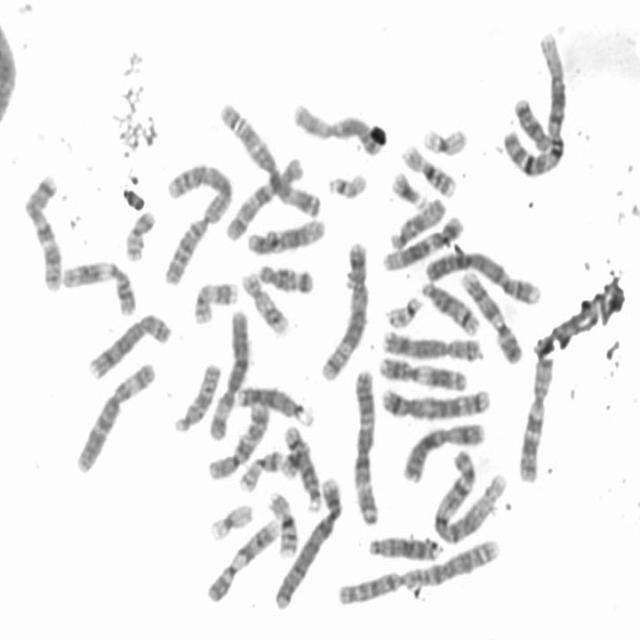A1: (498, 25, 572, 179), (430, 444, 510, 547)
A2: (333, 533, 505, 607), (157, 156, 235, 287)
A3: (218, 97, 325, 220), (350, 363, 383, 526)
B4: (271, 472, 345, 611), (421, 245, 543, 306)
B5: (317, 235, 371, 383), (377, 380, 492, 421)
C10: (220, 152, 305, 242), (204, 397, 272, 482)
C11: (58, 254, 140, 318), (375, 351, 470, 392)
C12: (378, 211, 466, 273), (243, 212, 329, 257)
C6: (70, 354, 158, 476), (204, 301, 252, 443)
C7: (19, 168, 65, 292), (515, 351, 557, 484)
C8: (84, 306, 174, 382), (379, 323, 485, 364)
C9: (203, 514, 281, 604), (458, 265, 525, 366)
D13: (234, 380, 316, 427), (364, 529, 446, 563)
D14: (279, 418, 324, 514), (418, 275, 482, 336)
D15: (170, 358, 224, 434), (386, 193, 447, 250)
E16: (398, 140, 459, 199), (265, 486, 301, 559)
E17: (238, 265, 292, 337), (189, 275, 240, 326)
E18: (509, 91, 552, 153), (254, 258, 316, 296)
F19: (205, 498, 255, 543), (419, 121, 470, 157)
F20: (236, 445, 286, 494), (121, 205, 158, 262)
G21: (388, 166, 428, 210), (278, 434, 313, 480)
G22: (382, 290, 426, 330), (322, 167, 370, 200)
X: (398, 416, 487, 484), (288, 97, 388, 157)
